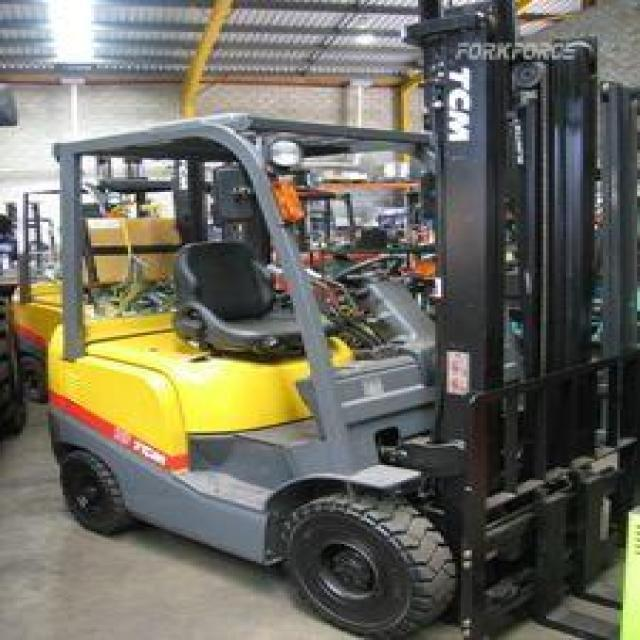forklift: (28, 7, 612, 638)
